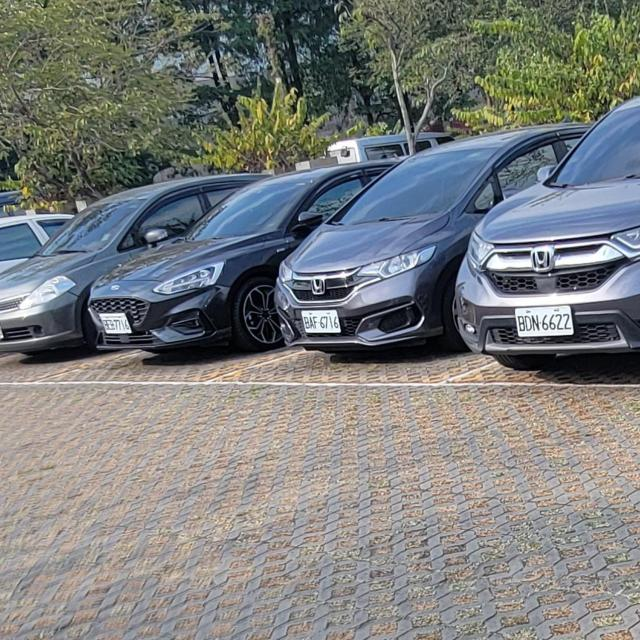W: (513, 300, 577, 342), (300, 306, 340, 336), (97, 308, 132, 334)
